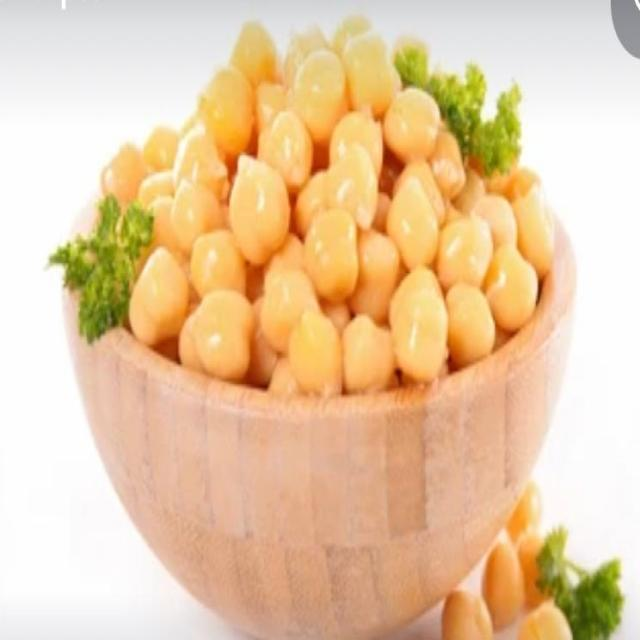SUNDAL: (101, 15, 558, 395)
